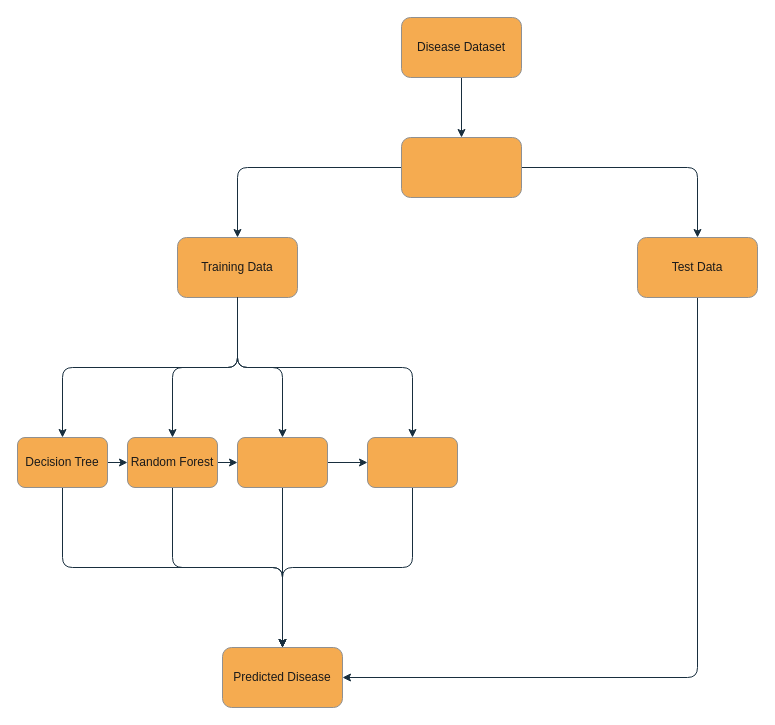
Some shapes in this 775 by 725 pixel diagram are drawn without their labels. Each missing label, with the box of its shape:
Multilayer Perceptron Neural Network: (366, 436, 458, 488)
Naive Bayes: (236, 436, 328, 488)
Pre-processing of Data: (400, 136, 522, 198)
